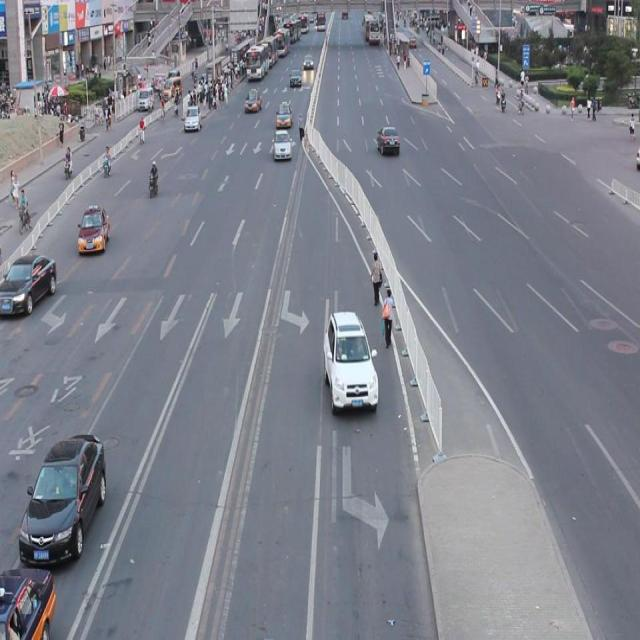car: (18, 432, 106, 566), (322, 308, 378, 410), (1, 565, 55, 640), (1, 251, 58, 318), (77, 205, 111, 255)
